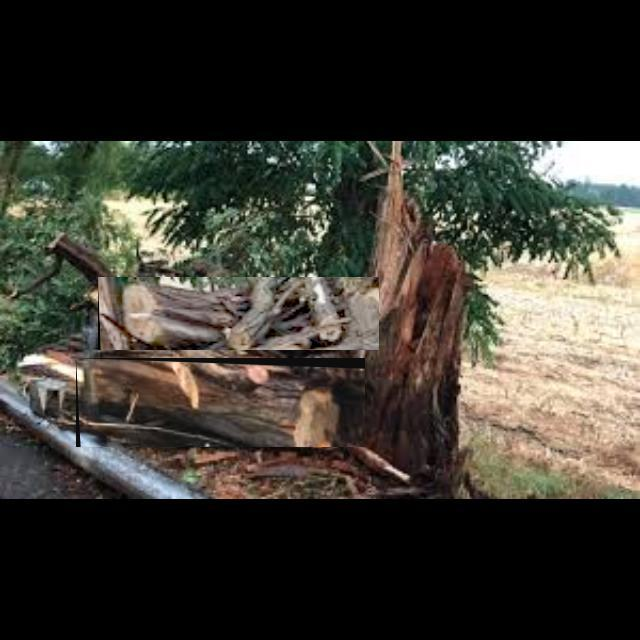fallen_tree: (76, 358, 366, 448), (98, 277, 380, 351)
